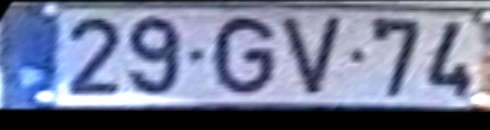2: (62, 16, 124, 100)
4: (419, 19, 478, 102)
7: (369, 18, 427, 102)
9: (123, 14, 185, 100)
G: (210, 14, 278, 99)
V: (279, 15, 349, 99)
